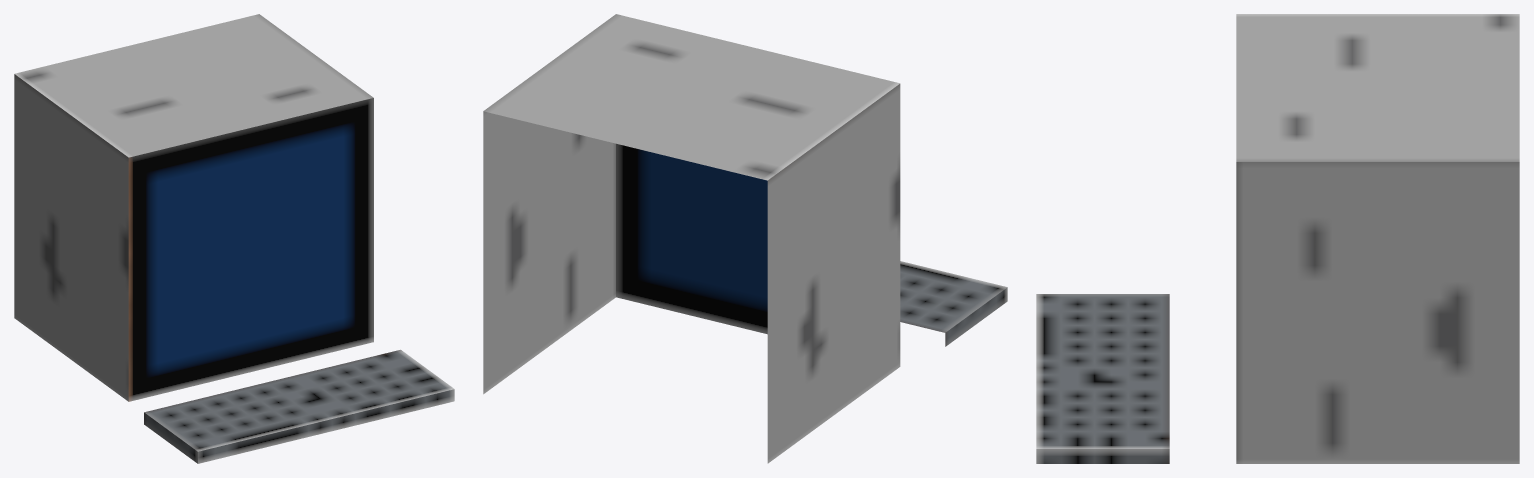
The model's file is CashRegister.fbx.
3 views of the same model, side by side, from view 1: azimuth 30°, elevation 25°; view 2: azimuth 150°, elevation 25°; view 3: azimuth 270°, elevation 25° (orthographic). The views are drawn at different scales.
Visible parts, largest first — view 1: CashRegister; view 2: CashRegister; view 3: CashRegister.
Part boxes in pixels (left/top/right/bottom): CashRegister: left=14, top=14, right=454, bottom=463; CashRegister: left=483, top=14, right=1007, bottom=463; CashRegister: left=1036, top=14, right=1519, bottom=463.
Bounding box in the file's own units: 220 × 200 × 290.
